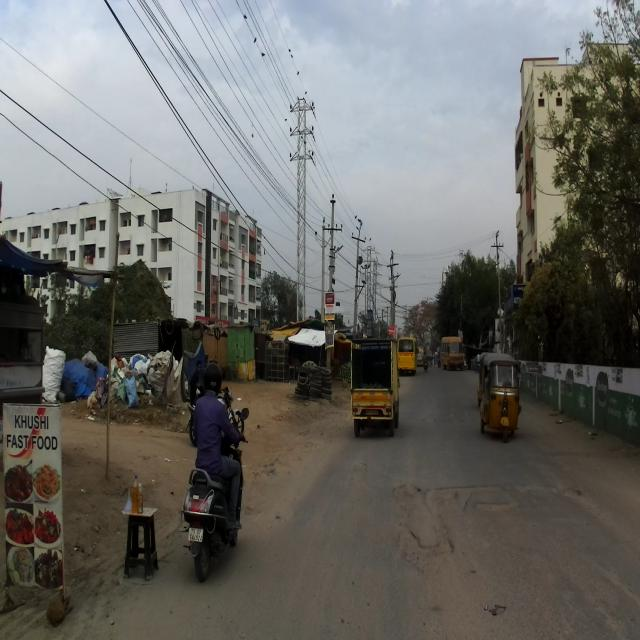auto ahead at: (476, 346, 524, 446)
car ahead at: (347, 328, 402, 442)
chair ahead at: (122, 470, 158, 580)
motorcycle ahead at: (182, 467, 245, 582)
